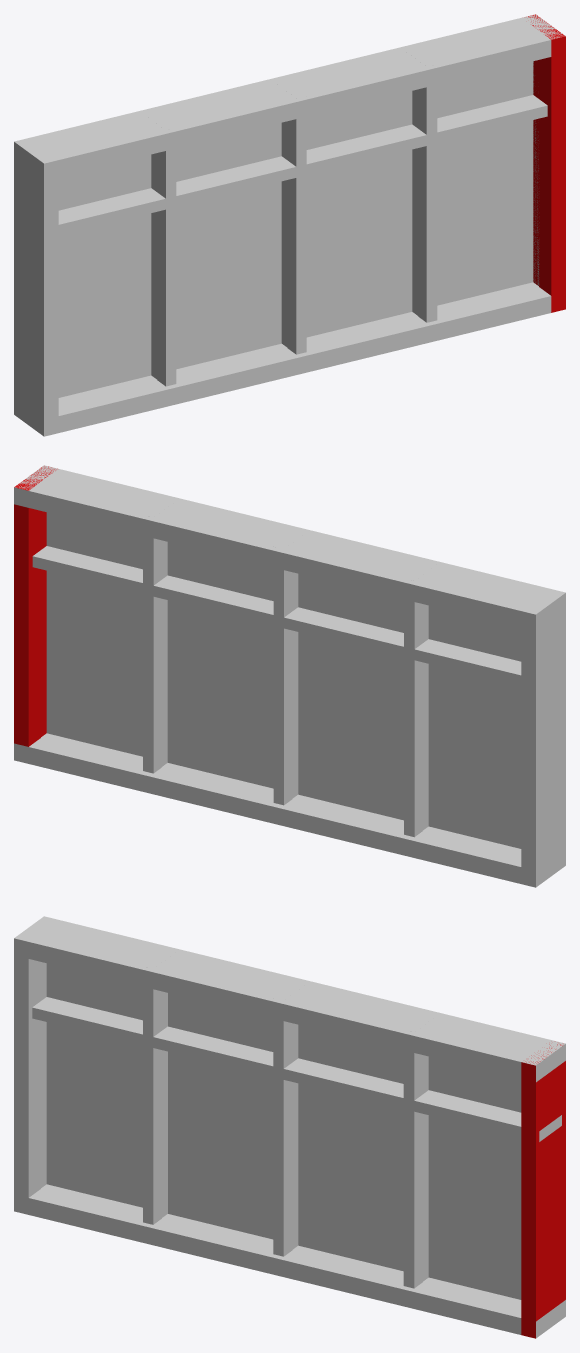
The model's file is Tester.glb.
3 renders of one model, top to bottom at view 1: azimuth 30°, elevation 25°; view 2: azimuth 150°, elevation 25°; view 3: azimuth 330°, elevation 25°, orthographic.
Parts seen in each view (by area): view 1: glass, top_frame, left_frame, bottom_frame, bottom_inside, right_frame, right_inside, bottom_mid1, bottom_mid2, bottom_mid3, horiz_beam2, horiz_beam3 (+5 smaller); view 2: glass, top_frame, left_frame, bottom_frame, bottom_inside, right_inside, right_frame, bottom_mid2, bottom_mid1, bottom_mid3, horiz_beam3, horiz_beam2 (+5 smaller); view 3: glass, top_frame, right_frame, bottom_frame, bottom_inside, left_inside, left_frame, bottom_mid2, bottom_mid3, horiz_beam2, horiz_beam3, bottom_mid1 (+5 smaller).
Part boxes in pixels (x1,y1,x2,y2): glass: [58, 61, 539, 403]; top_frame: [14, 14, 565, 180]; left_frame: [14, 138, 58, 436]; bottom_frame: [14, 296, 551, 436]; bottom_inside: [58, 287, 550, 415]; right_frame: [528, 14, 565, 312]; right_inside: [533, 57, 551, 295]; bottom_mid1: [151, 256, 176, 386]; bottom_mid2: [281, 225, 306, 354]; bottom_mid3: [412, 193, 437, 322]; horiz_beam2: [174, 156, 301, 206]; horiz_beam3: [301, 124, 426, 176]; glass: [41, 512, 521, 854]; top_frame: [14, 465, 565, 631]; left_frame: [521, 589, 565, 887]; bottom_frame: [14, 743, 565, 887]; bottom_inside: [29, 738, 521, 866]; right_inside: [28, 508, 46, 746]; right_frame: [14, 466, 57, 746]; bottom_mid2: [273, 676, 298, 805]; bottom_mid1: [404, 707, 428, 837]; bottom_mid3: [143, 644, 167, 773]; horiz_beam3: [148, 575, 273, 625]; horiz_beam2: [284, 607, 403, 657]; glass: [41, 963, 521, 1305]; top_frame: [14, 916, 565, 1082]; right_frame: [521, 1044, 565, 1338]; bottom_frame: [14, 1194, 565, 1338]; bottom_inside: [29, 1189, 521, 1317]; left_inside: [28, 959, 46, 1197]; left_frame: [14, 917, 57, 1214]; bottom_mid2: [273, 1127, 298, 1256]; bottom_mid3: [403, 1159, 428, 1288]; horiz_beam2: [148, 1026, 277, 1077]; horiz_beam3: [278, 1058, 408, 1109]; bottom_mid1: [143, 1095, 167, 1224].
Bounding box in the file's own units: 2 × 1 × 0.2.
